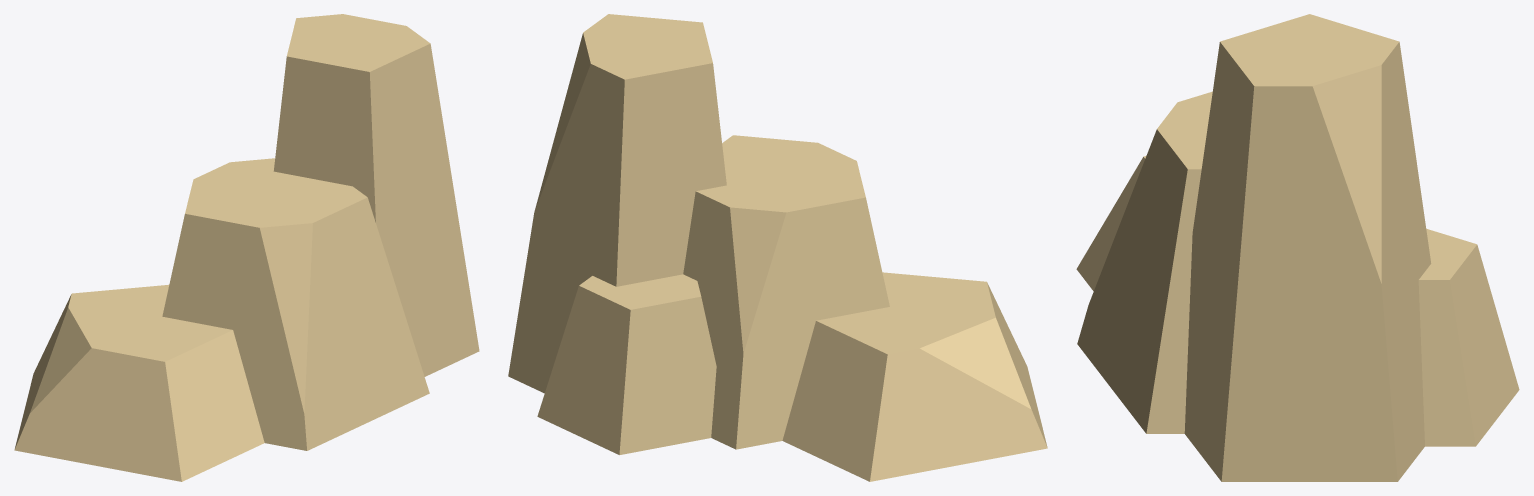
File: rockC.fbx
3 renders of one model, left to right at view 1: azimuth 30°, elevation 25°; view 2: azimuth 150°, elevation 25°; view 3: azimuth 270°, elevation 25°, orthographic. The views are drawn at different scales.
Parts seen in each view (by area): view 1: rockC; view 2: rockC; view 3: rockC.
Part boxes in pixels (x1,y1,x2,y2): rockC: (14, 14, 479, 481); rockC: (508, 14, 1047, 481); rockC: (1076, 14, 1519, 481).
Bounding box in the file's own units: 7.84 × 5.1 × 5.47.
